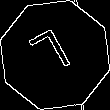L_SE: (29, 26, 81, 84)
